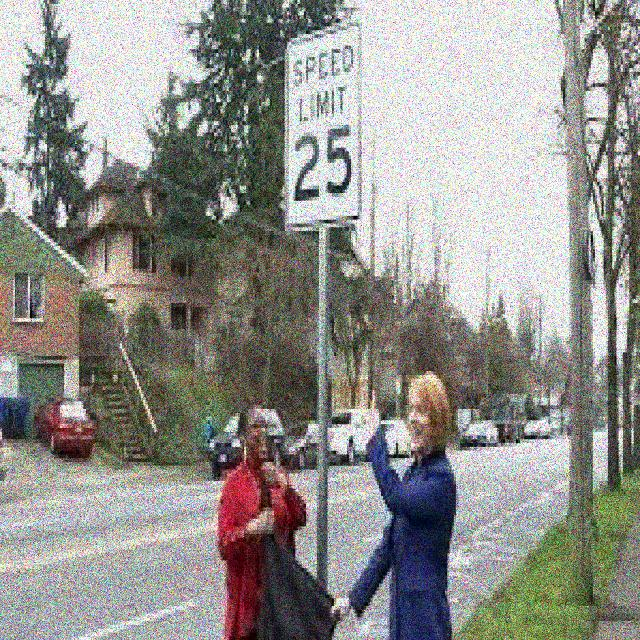speedLimit25: (280, 32, 368, 229)
